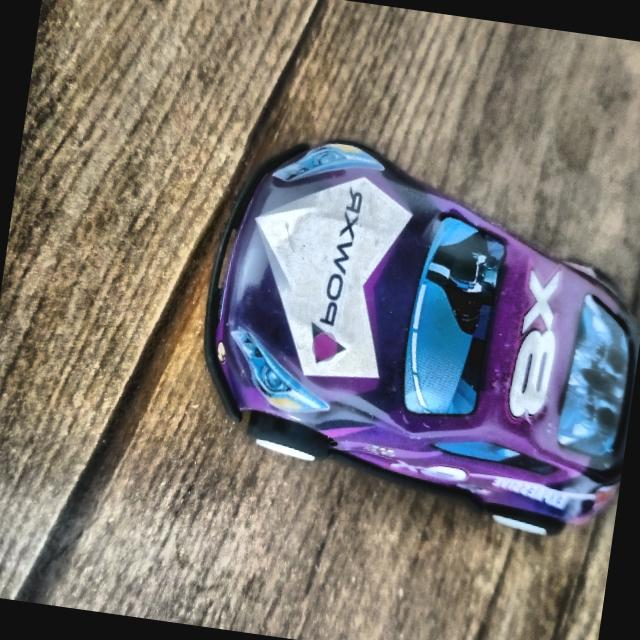Car: (179, 121, 640, 559)
